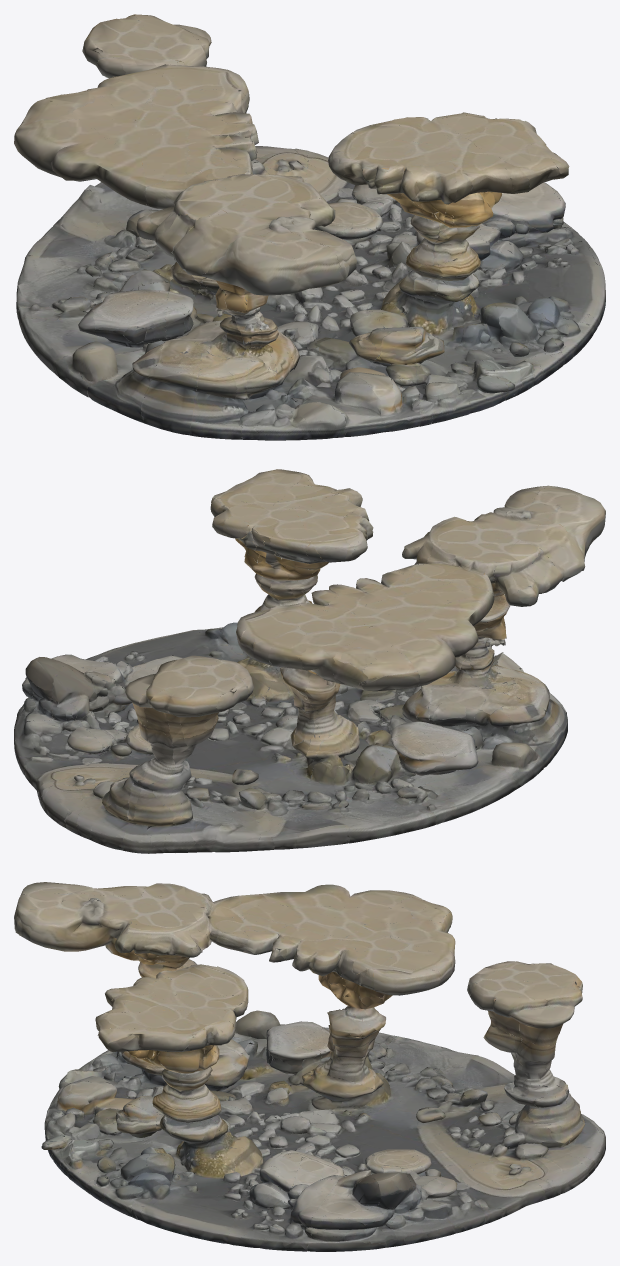
File: rocks2.glb
3 renders of one model, top to bottom at view 1: azimuth 30°, elevation 25°; view 2: azimuth 150°, elevation 25°; view 3: azimuth 270°, elevation 25°, orthographic. The views are drawn at different scales.
Visible parts, largest first — view 1: rocks2; view 2: rocks2; view 3: rocks2.
Part boxes in pixels (bbox=[...]): rocks2: bbox=[14, 14, 605, 440]; rocks2: bbox=[14, 469, 605, 853]; rocks2: bbox=[14, 882, 605, 1251].
Size of the model in its own units: 1.66 by 0.6386 by 1.9.
Materials: 1 (1 with a texture image).
